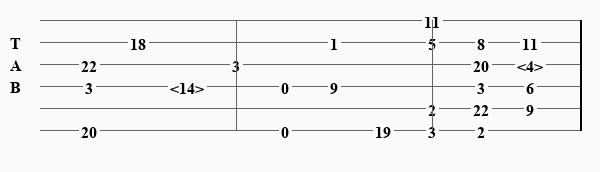0: (281, 79, 293, 94), (281, 123, 293, 138)
1: (330, 35, 342, 50)
11: (424, 13, 444, 28), (522, 35, 542, 50)
18: (130, 35, 150, 50)
19: (375, 123, 395, 138)
2: (428, 101, 440, 116), (477, 123, 489, 138)
20: (81, 123, 101, 138), (473, 57, 493, 72)
22: (81, 57, 101, 72), (473, 101, 493, 116)
3: (85, 79, 97, 94), (232, 57, 244, 72), (428, 123, 440, 138), (477, 79, 489, 94)
5: (428, 35, 440, 50)
6: (526, 79, 538, 94)
8: (477, 35, 489, 50)
9: (330, 79, 342, 94), (526, 101, 538, 116)
harmonic: (170, 79, 208, 94), (517, 57, 547, 72)
